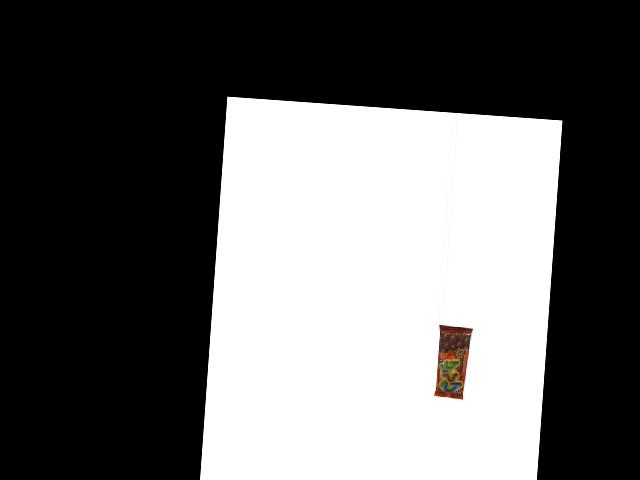chocolate: (434, 325, 471, 399)
